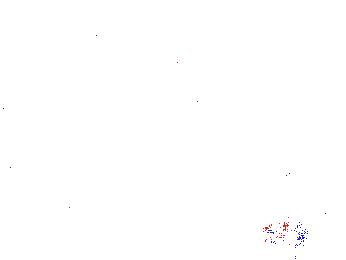flame jellyfish: (262, 196, 338, 251), (31, 75, 76, 140)
